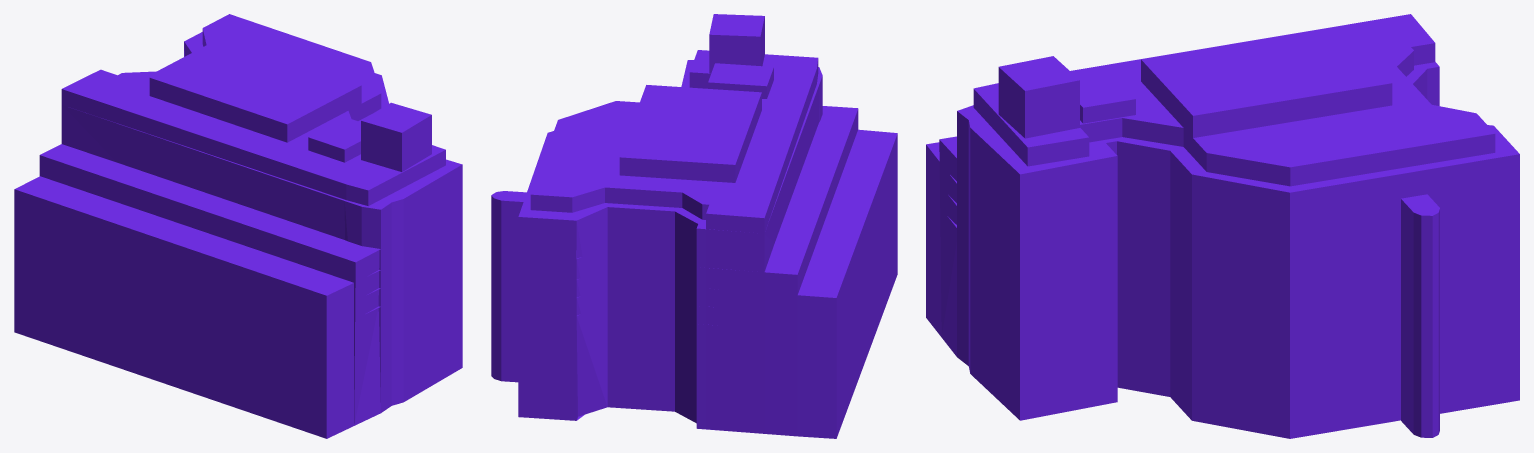
The model's file is kaleide.glb.
3 views of the same model, side by side, from view 1: azimuth 30°, elevation 25°; view 2: azimuth 150°, elevation 25°; view 3: azimuth 270°, elevation 25° (orthographic). The views are drawn at different scales.
Visible parts, largest first — view 1: building8; view 2: building8; view 3: building8.
Part boxes in pixels (x1,y1,x2,y2): building8: (14, 14, 462, 438); building8: (491, 14, 897, 438); building8: (926, 14, 1519, 438).
Size of the model in its own units: 65.93 by 49.3 by 84.8.
